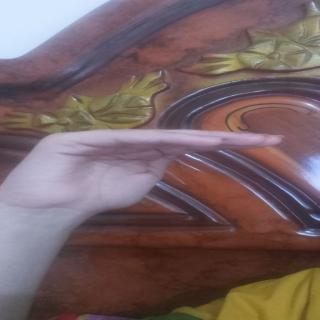KHAA: (0, 121, 281, 230)
